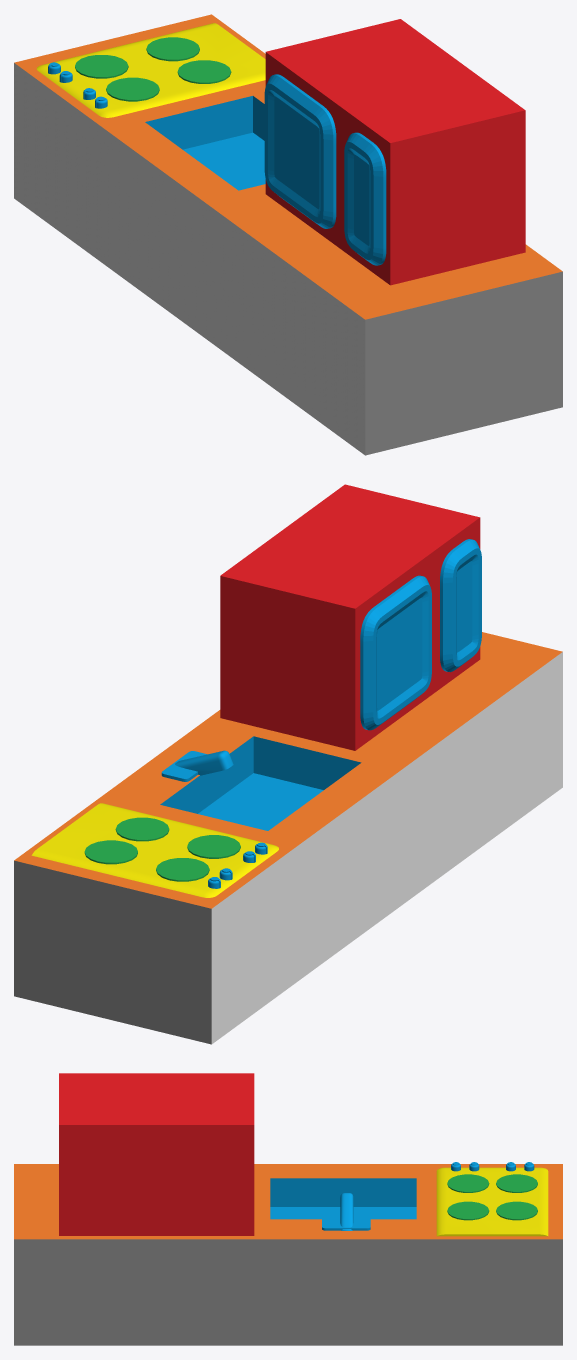
File: BunkerSink.FBX
3 renders of one model, top to bottom at view 1: azimuth 30°, elevation 25°; view 2: azimuth 150°, elevation 25°; view 3: azimuth 270°, elevation 25°, orthographic. The views are drawn at different scales.
Visible parts, largest first — view 1: Box054; view 2: Box054; view 3: Box054.
Part boxes in pixels (x1=…): Box054: x1=14, y1=14, x2=562, y2=455; Box054: x1=14, y1=484, x2=562, y2=1044; Box054: x1=14, y1=1073, x2=562, y2=1345.
Bounding box in the file's own units: 73.16 × 98.29 × 225.
Materials: 21 (17 with a texture image).
